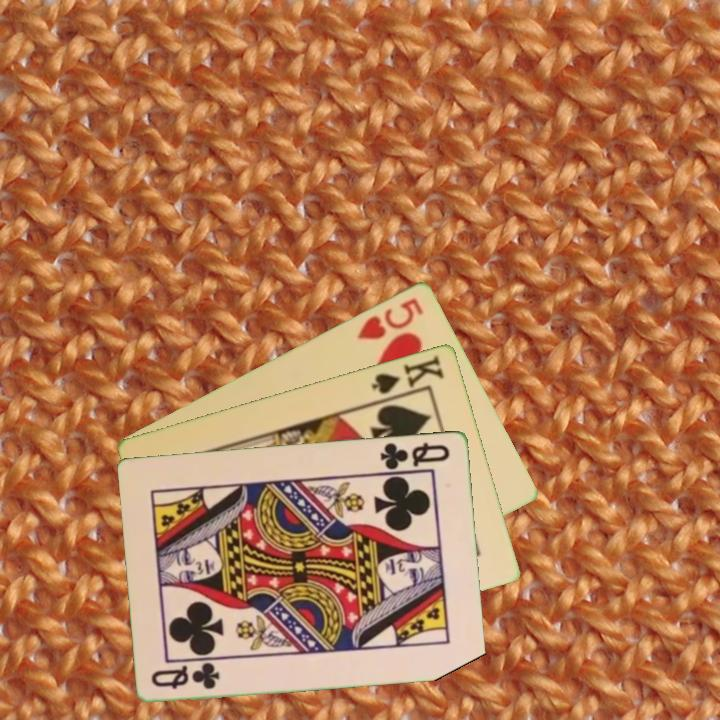5h: (353, 294, 427, 343)
Ks: (368, 351, 447, 404)
Qc: (377, 438, 453, 472), (148, 660, 224, 692)
